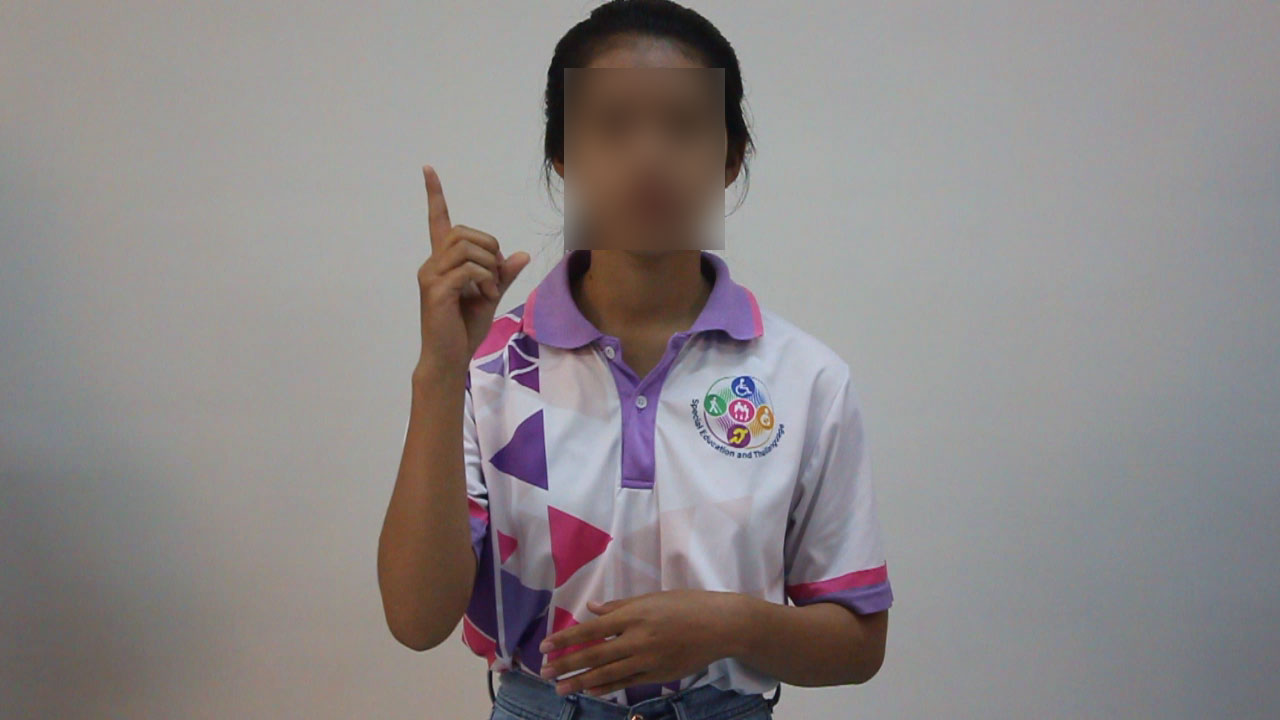dor: (406, 153, 541, 370)
